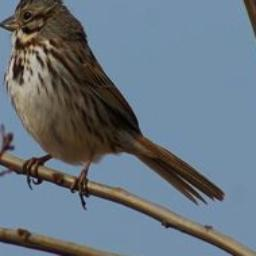Sparrow: (0, 0, 228, 209)
